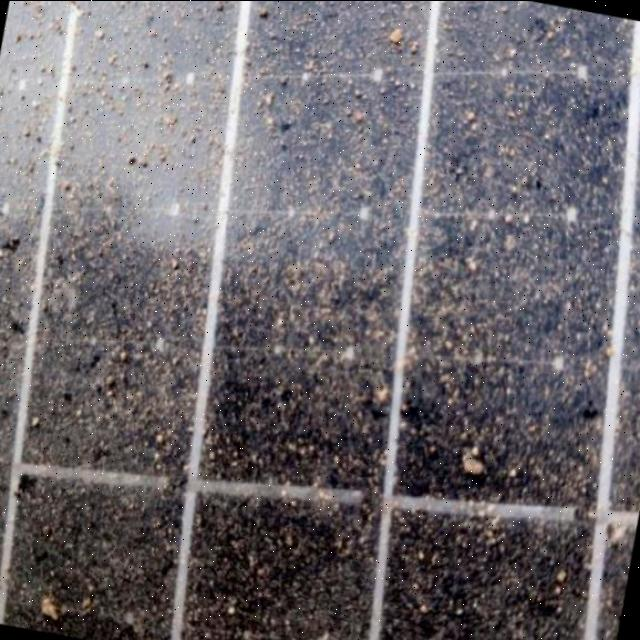Surface Contaminant: (0, 27, 589, 640)
